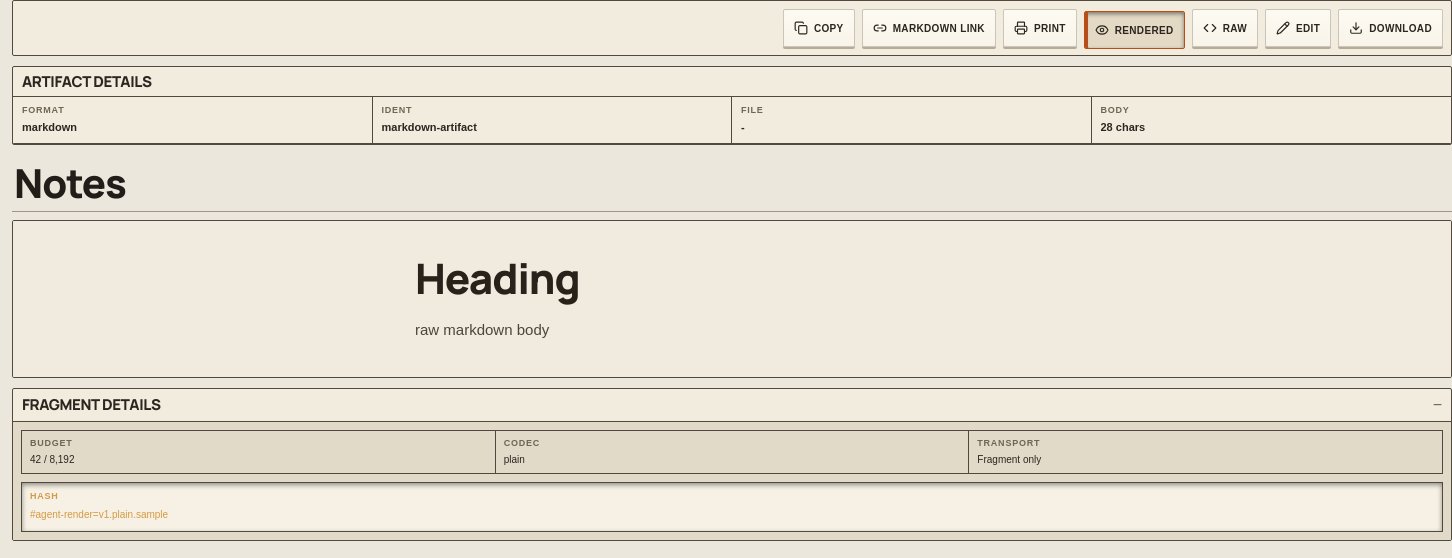
ArtifactStage raw view › renders markdown raw mode on the highlighted file surface with a markdown hint
The image size is (1452, 558).
Click the button "Raw".
click(1225, 28)  # box [1192,9,1258,47]
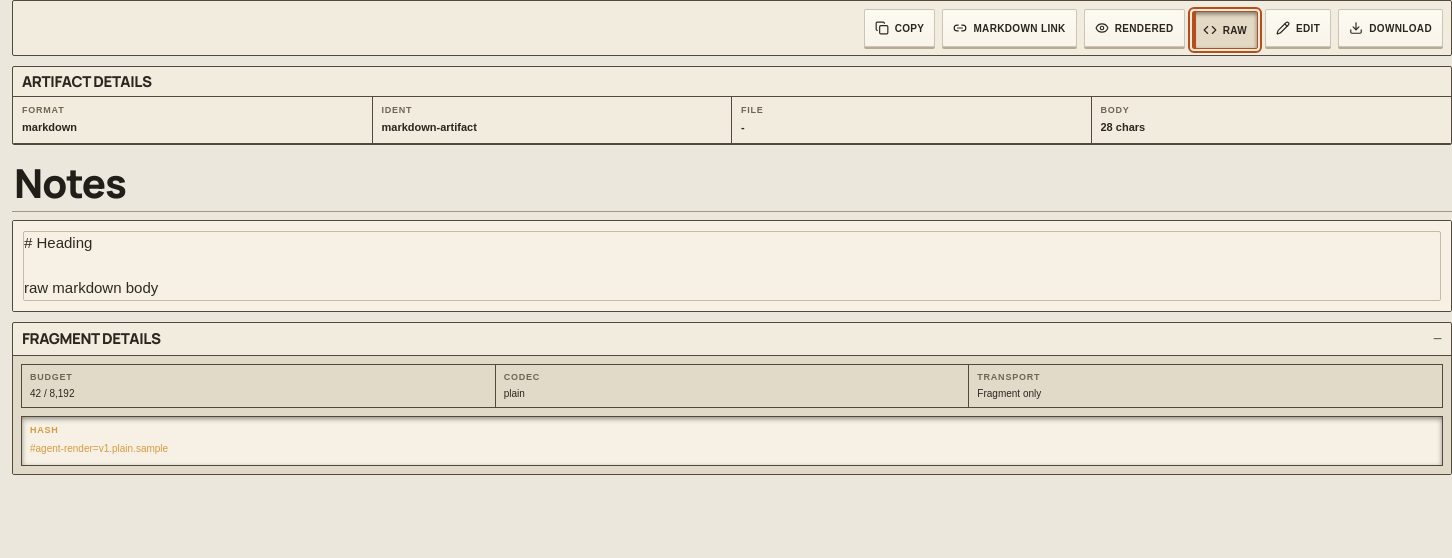
Result: the element with test id "renderer-markdown-raw" shows "raw markdown body" at [24,234,158,296]
